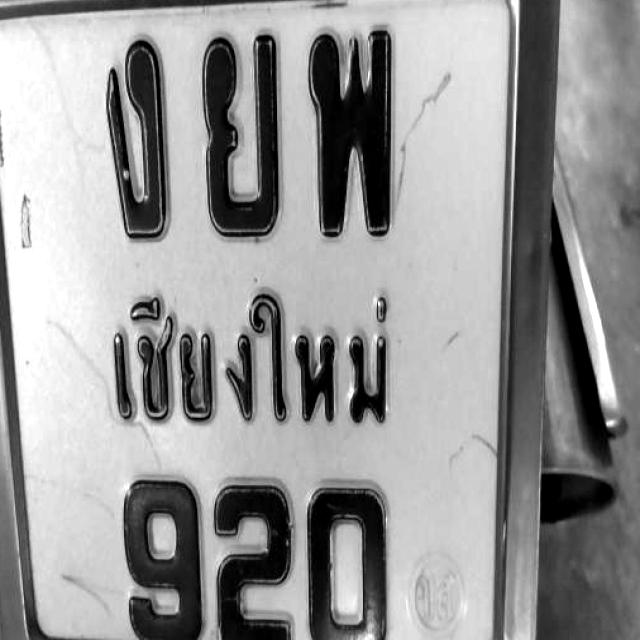letters: (64, 24, 184, 254), (199, 31, 291, 248), (305, 26, 390, 247), (115, 466, 205, 640), (213, 460, 292, 640), (308, 468, 389, 640)
license-plate: (0, 0, 546, 640)
province: (87, 287, 399, 444)
